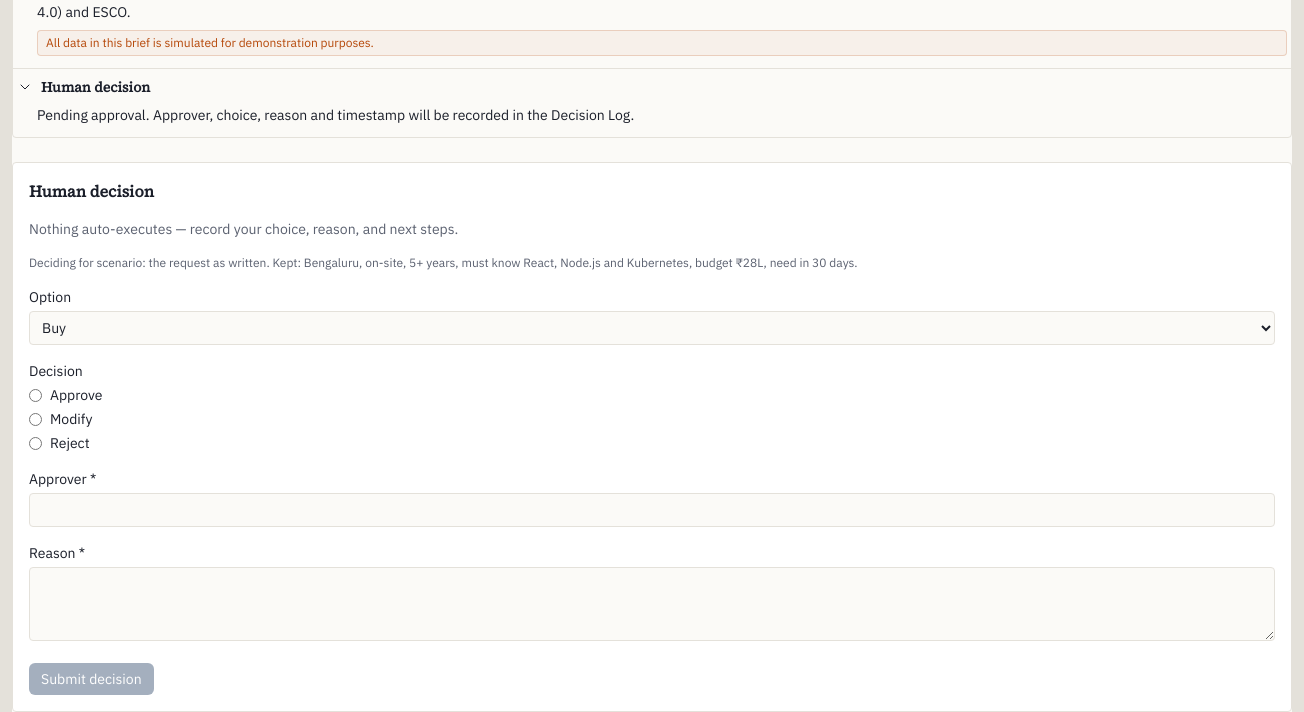
Test case: TC22: POST body correctness › option_id in POST body is one of scenarios[mask] options
The image size is (1304, 712).
(page scrolled)
Click the radio button labelled "Approve": (36, 395) [29,388,42,402]
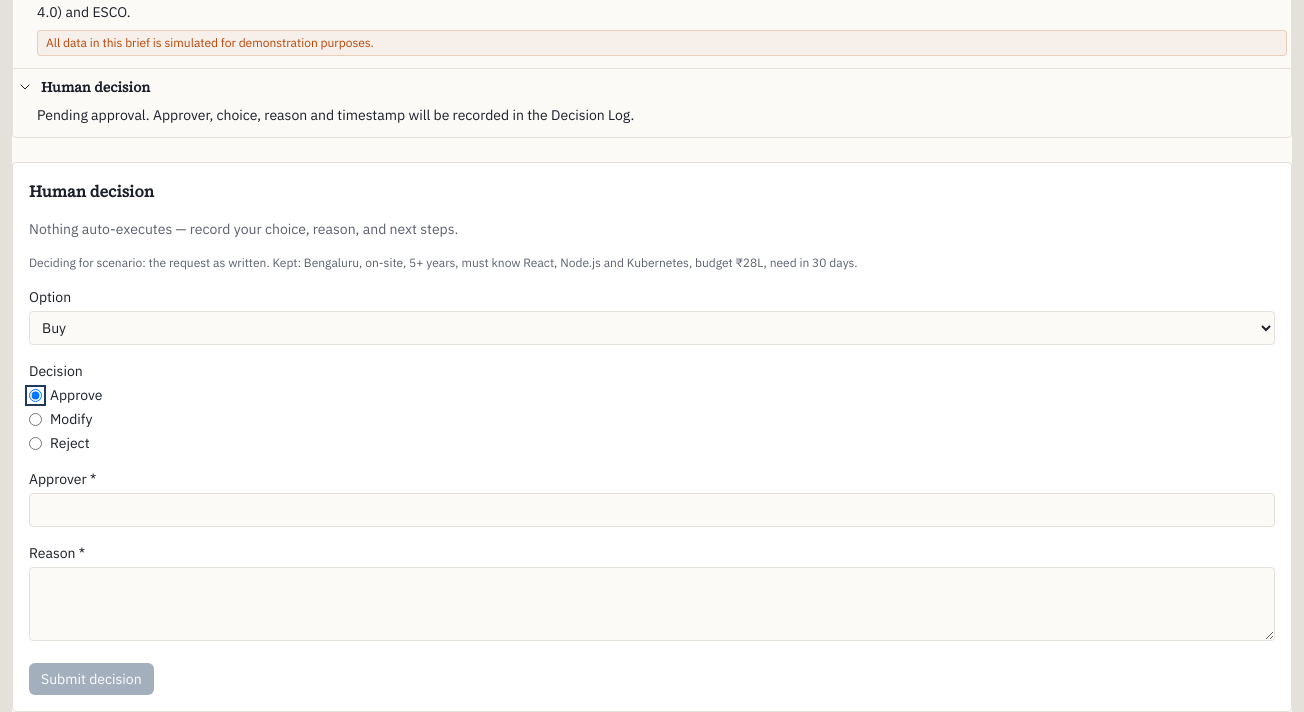
In the field labelled "Approver *": (652, 510) [29,493,1275,527], type "Test Manager"
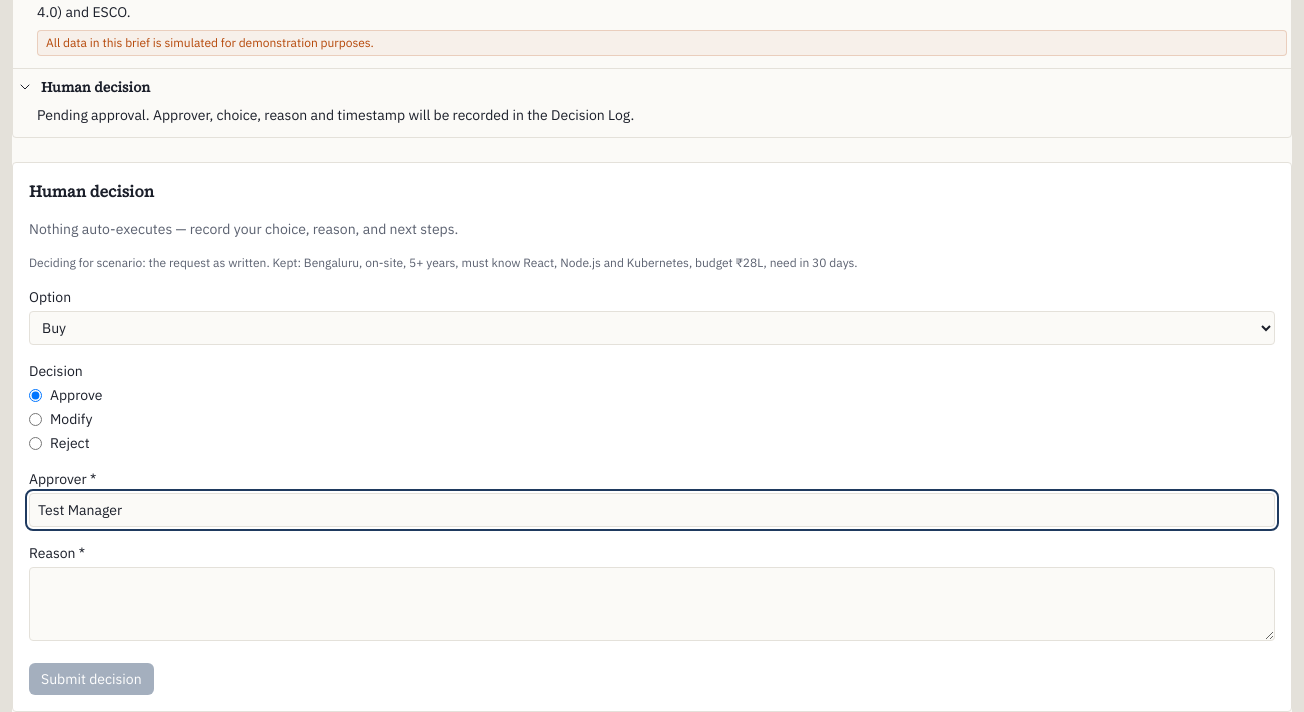
In the text box labelled "Reason *": (652, 604) [29,567,1275,641], type "Budget approved and urgency confirmed."
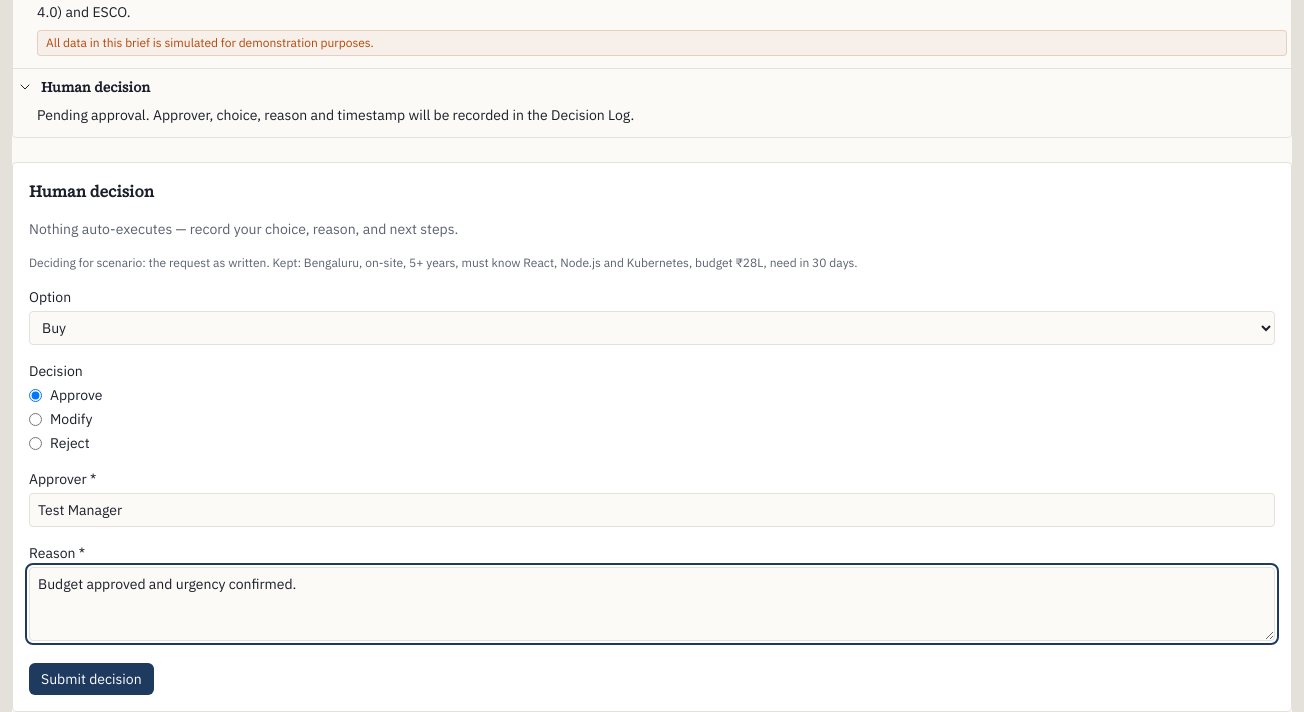
Click the button "Submit decision": (91, 679) [29,663,154,695]
(page scrolled)
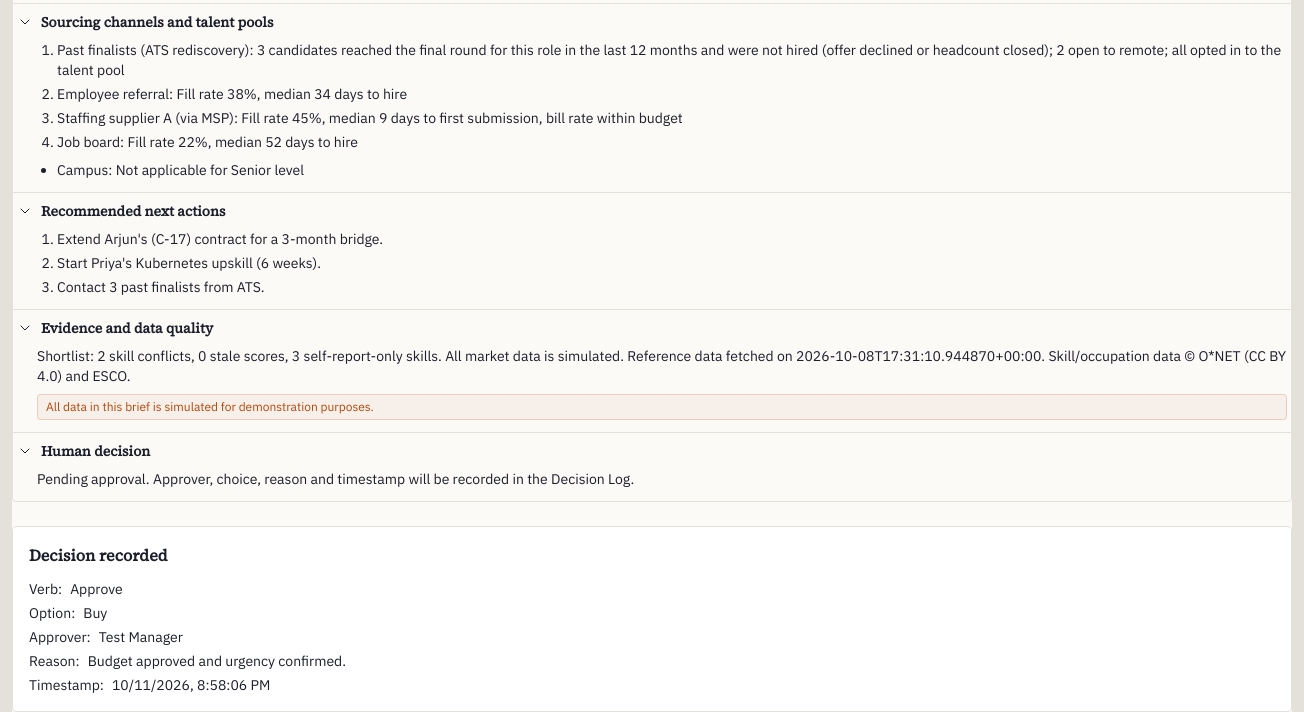
Now the heading "Decision recorded" is shown, box [29,544,168,566]
